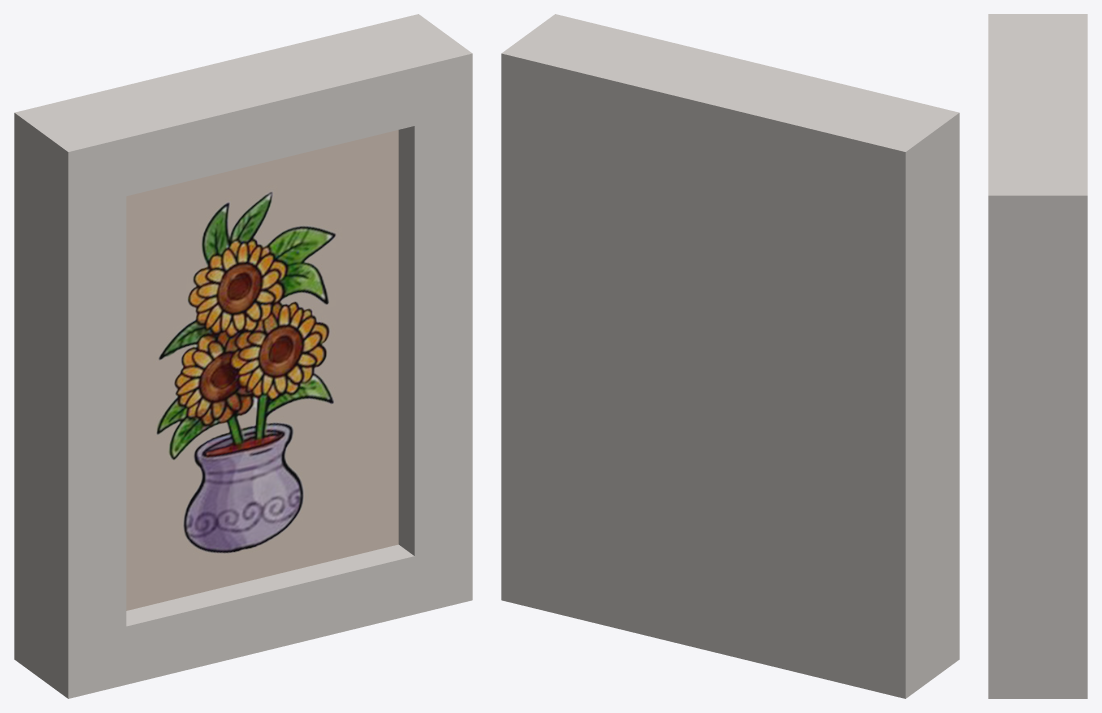
Rendered from Picture Frame.fbx.
3 renders of one model, left to right at view 1: azimuth 30°, elevation 25°; view 2: azimuth 150°, elevation 25°; view 3: azimuth 270°, elevation 25°, orthographic. The views are drawn at different scales.
Visible parts, largest first — view 1: Picture Frame; view 2: Picture Frame; view 3: Picture Frame.
Part boxes in pixels (<box>): Picture Frame: <box>14,14,472,698</box>; Picture Frame: <box>501,14,959,698</box>; Picture Frame: <box>988,14,1087,698</box>.
Bounding box in the file's own units: 0.1222 × 0.1579 × 0.0282.
